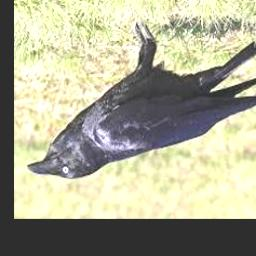Crow: (28, 20, 256, 180)
